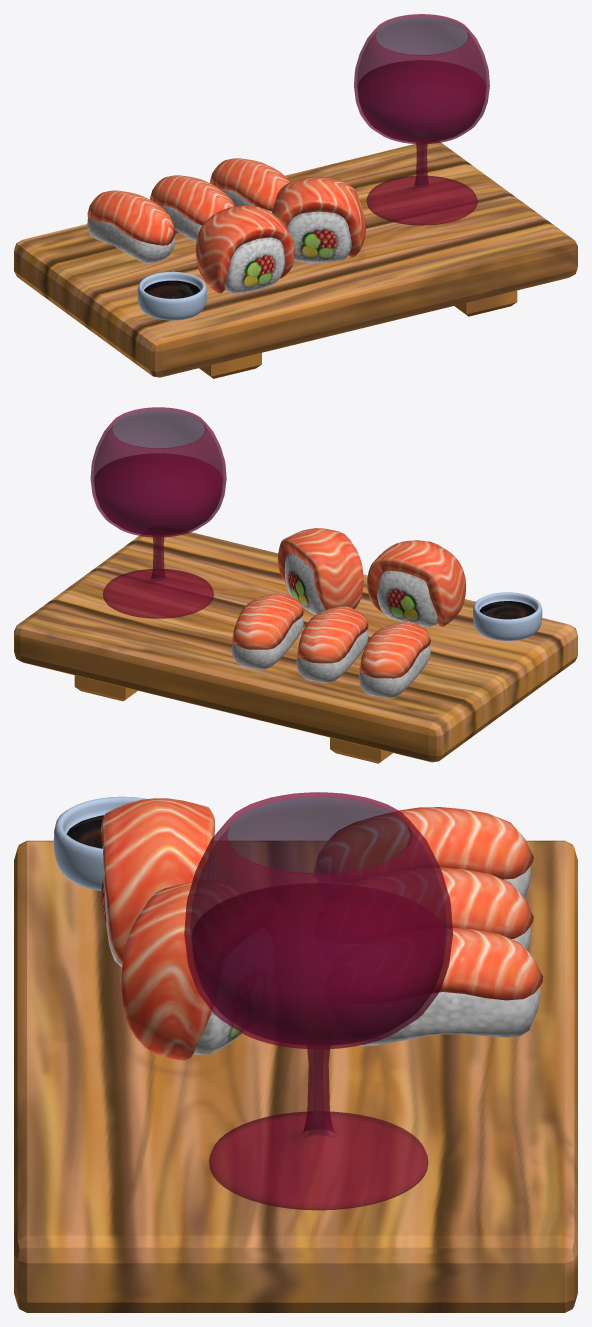
Rendered from sushi.glb.
3 views of the same model, one above another, from view 1: azimuth 30°, elevation 25°; view 2: azimuth 150°, elevation 25°; view 3: azimuth 270°, elevation 25° (orthographic). The views are drawn at different scales.
Visible parts, largest first — view 1: woodcutboard, Circle, Circle.003, Cube.004, Cube.001, salmontop.002, Circle.002, Cube, Cube.003, salmontop, salmontop.001, sushirice.002 (+1 smaller); view 2: woodcutboard, Circle, Circle.003, Cube.001, Cube.004, salmontop.001, salmontop.002, salmontop, Circle.002, Cube.003, Cube, sushirice (+2 smaller); view 3: woodcutboard, Circle, Circle.003, Cube.001, salmontop.002, Cube.004, salmontop.001, salmontop, sushirice, Circle.002, Cube.
Boxes of the visible parts, x1,y1,x2,y2 form: woodcutboard: (14, 141, 577, 378); Circle: (354, 14, 489, 225); Circle.003: (358, 60, 485, 142); Cube.004: (195, 205, 294, 293); Cube.001: (272, 176, 365, 257); salmontop.002: (87, 190, 175, 245); Circle.002: (137, 271, 206, 320); Cube: (287, 211, 351, 262); Cube.003: (224, 237, 285, 293); salmontop: (210, 158, 290, 211); salmontop.001: (150, 175, 234, 225); sushirice.002: (87, 217, 174, 263); woodcutboard: (14, 531, 577, 763); Circle: (90, 407, 226, 618); Circle.003: (94, 453, 222, 535); Cube.001: (277, 528, 363, 610); Cube.004: (367, 540, 466, 626); salmontop.001: (297, 606, 368, 663); salmontop.002: (359, 621, 430, 678); salmontop: (232, 592, 303, 649); Circle.002: (473, 592, 542, 640); Cube.003: (377, 571, 437, 626); Cube: (284, 552, 324, 614); sushirice: (231, 616, 303, 669); woodcutboard: (14, 840, 577, 1312); Circle: (184, 792, 452, 1210); Circle.003: (192, 883, 445, 1045); Cube.001: (120, 881, 252, 1060); salmontop.002: (313, 807, 533, 883); Cube.004: (101, 798, 215, 963); salmontop.001: (352, 867, 533, 938); salmontop: (432, 927, 543, 1000); sushirice: (355, 986, 540, 1046); Circle.002: (53, 796, 146, 891); Cube: (193, 1006, 244, 1054).
Size of the model in its own units: 171 by 85.42 by 99.02.
5 materials, 1 textured.
